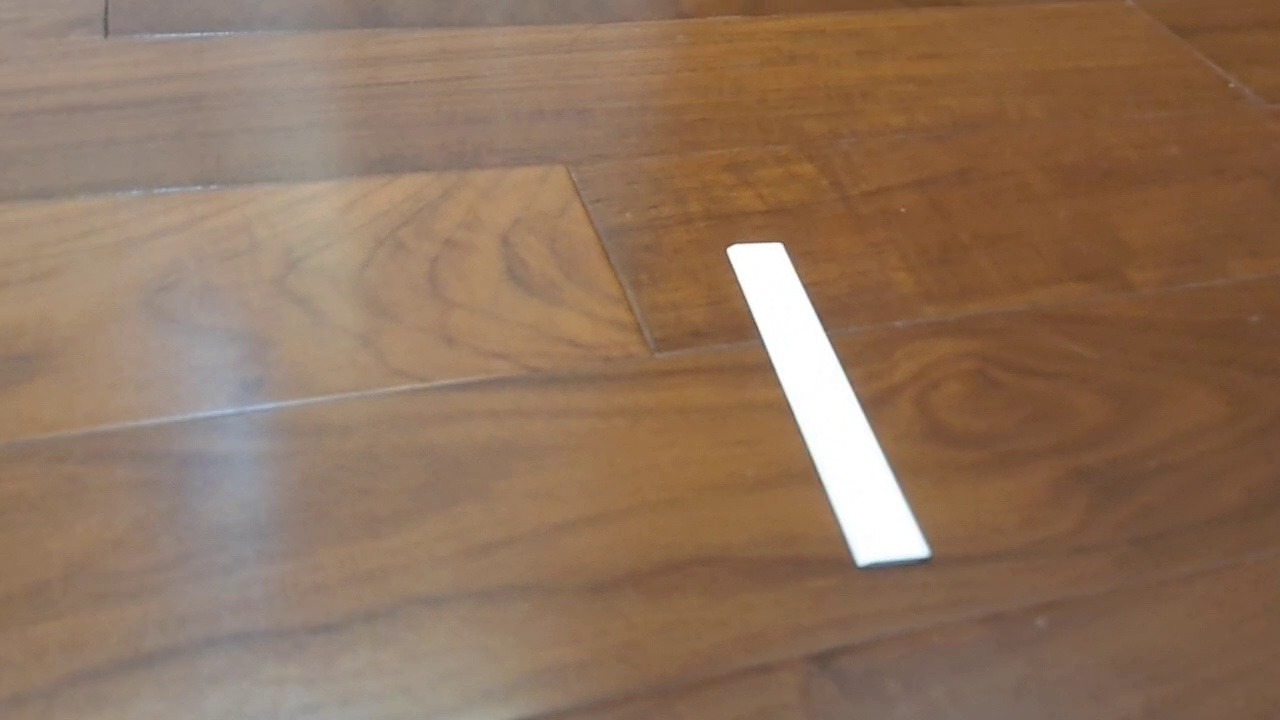ruler: (724, 241, 933, 570)
